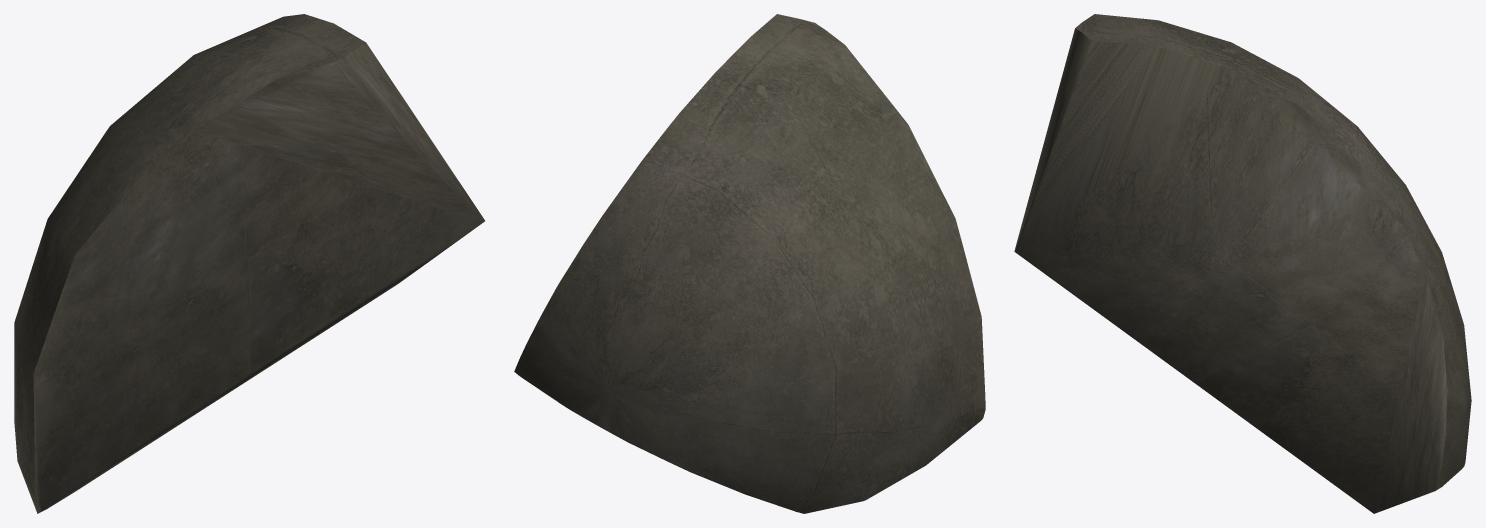
3 renders of one model, left to right at view 1: azimuth 30°, elevation 25°; view 2: azimuth 150°, elevation 25°; view 3: azimuth 270°, elevation 25°, orthographic. The views are drawn at different scales.
Visible parts, largest first — view 1: Sphere_cell.003; view 2: Sphere_cell.003; view 3: Sphere_cell.003.
Boxes of the visible parts, x1,y1,x2,y2 form: Sphere_cell.003: [14, 14, 484, 513]; Sphere_cell.003: [514, 14, 985, 513]; Sphere_cell.003: [1014, 14, 1471, 513].
Bounding box in the file's own units: 3.19 × 3.25 × 2.67.
Materials: 1 (1 with a texture image).
